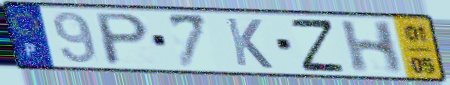7: (167, 12, 210, 71)
9: (50, 10, 99, 65)
H: (337, 19, 405, 74)
K: (223, 15, 276, 71)
P: (94, 11, 152, 67)
Z: (287, 18, 348, 73)
